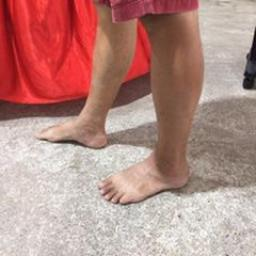Medial View -Right Foot-: (32, 103, 114, 158)
